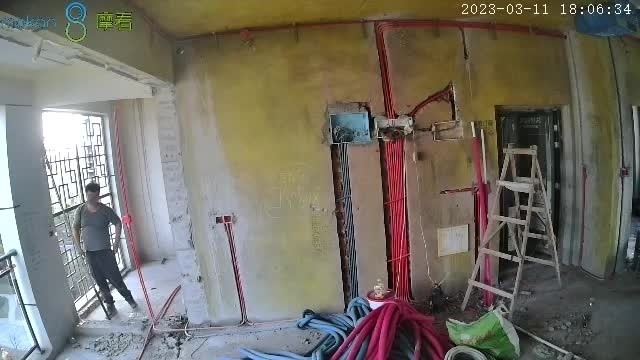people: (71, 184, 136, 317)
window: (43, 109, 135, 312)
